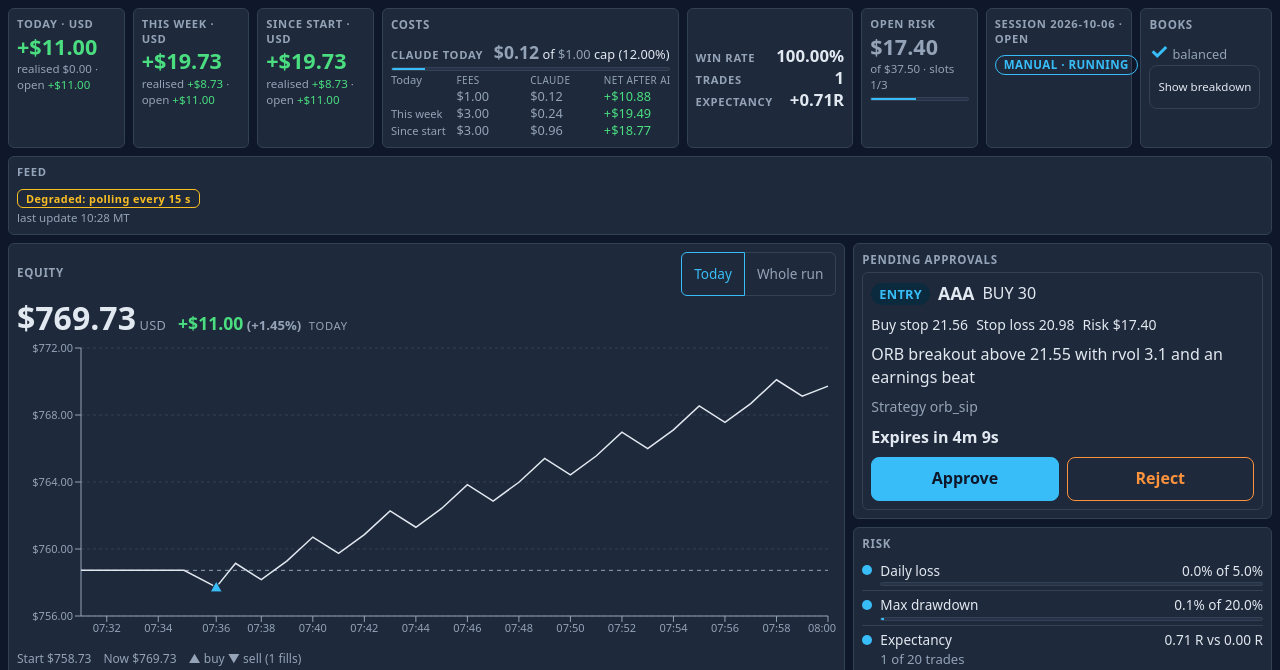
Test: carried over: approvals › keeps the decision message after the proposal leaves the pending list
The image size is (1280, 670).
Expected: the element named "Session" is shown, [8,8,1272,234]
Click the button "Approve" at (965, 479), box [871,457,1059,501]
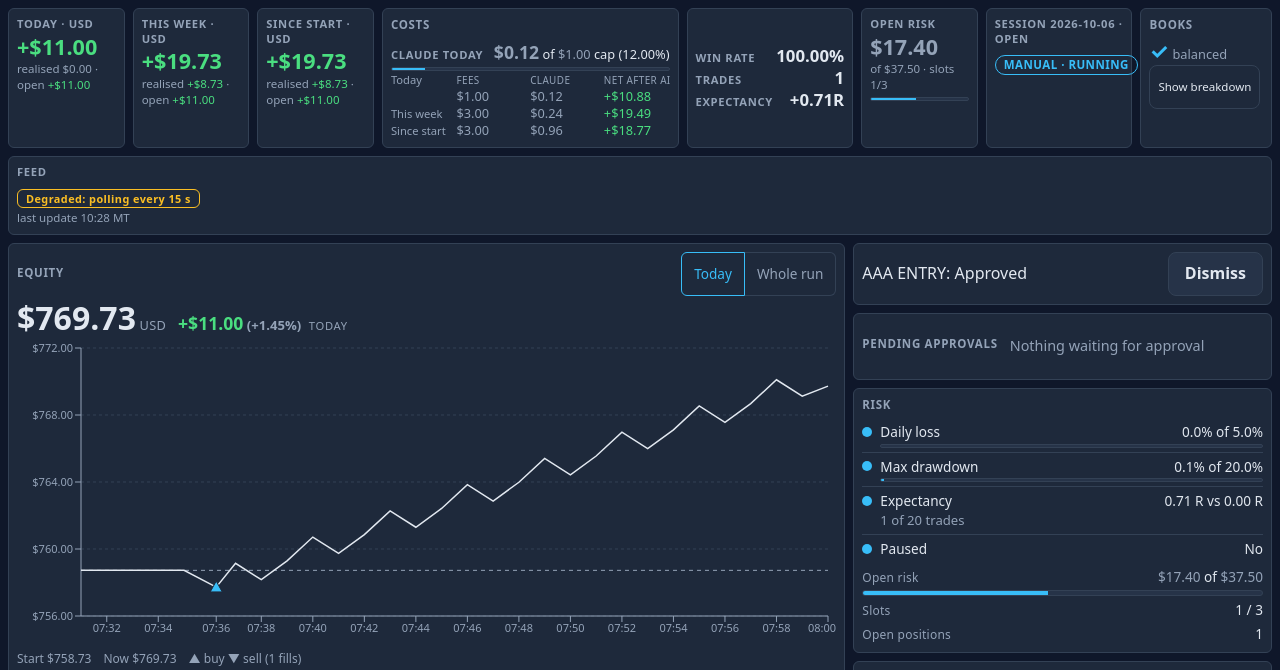
Expected: the list named "Decisions" shows "AAA", [862,262,1027,284]
Expected: the list named "Decisions" shows "Approved", [862,262,1027,284]
